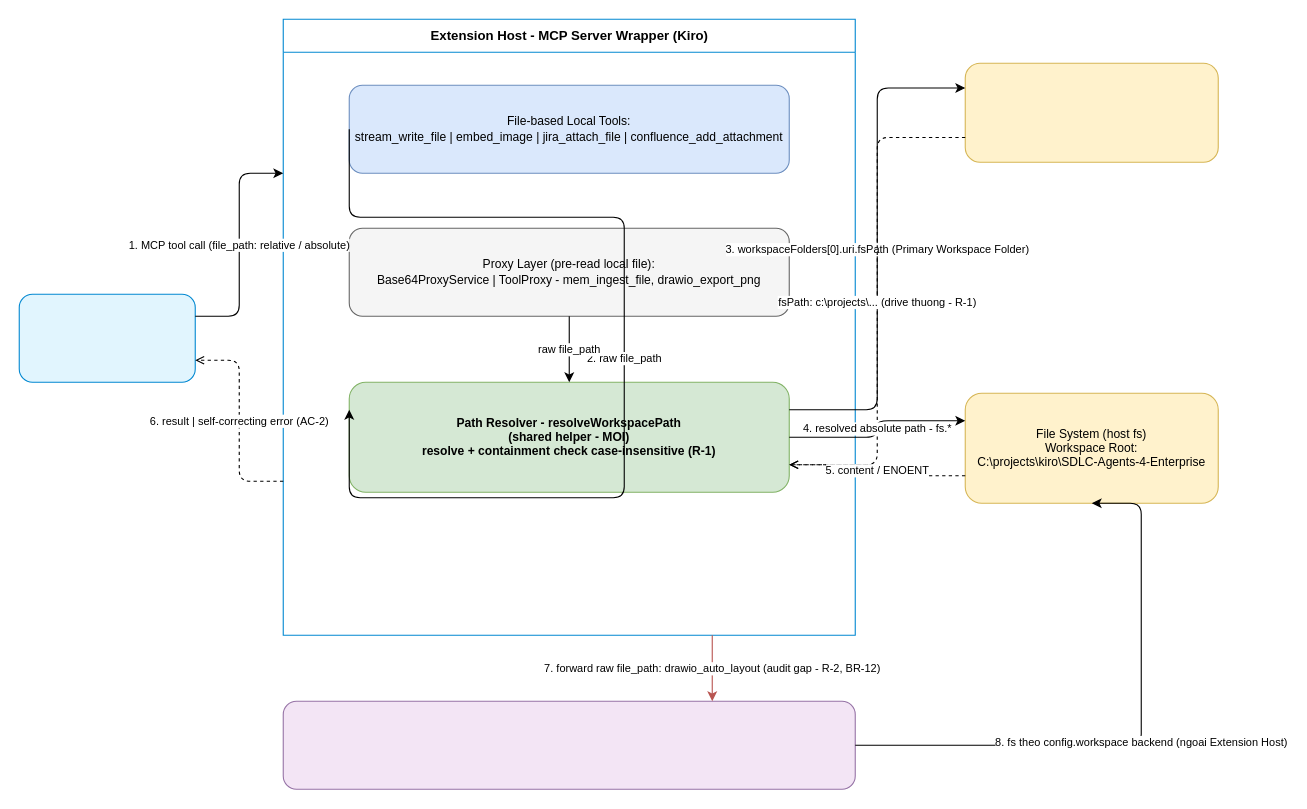
Image size: 1307x809. Some labels were removed from this diagram. Each missing label, with the centre of its shape:
"Backend Child Server (48721): drawio_auto_layout | sandbox_run" goes at [568,744].
"SDLC AI Agent (MCP Client)" goes at [106,337].
"VS Code Workspace API vscode.workspace.workspaceFolders" goes at [1091,112].
